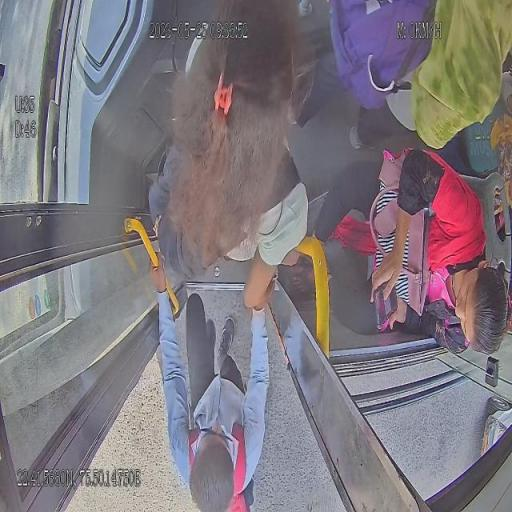persona: (147, 1, 313, 320), (324, 146, 510, 358), (148, 250, 277, 511), (324, 0, 512, 142)
